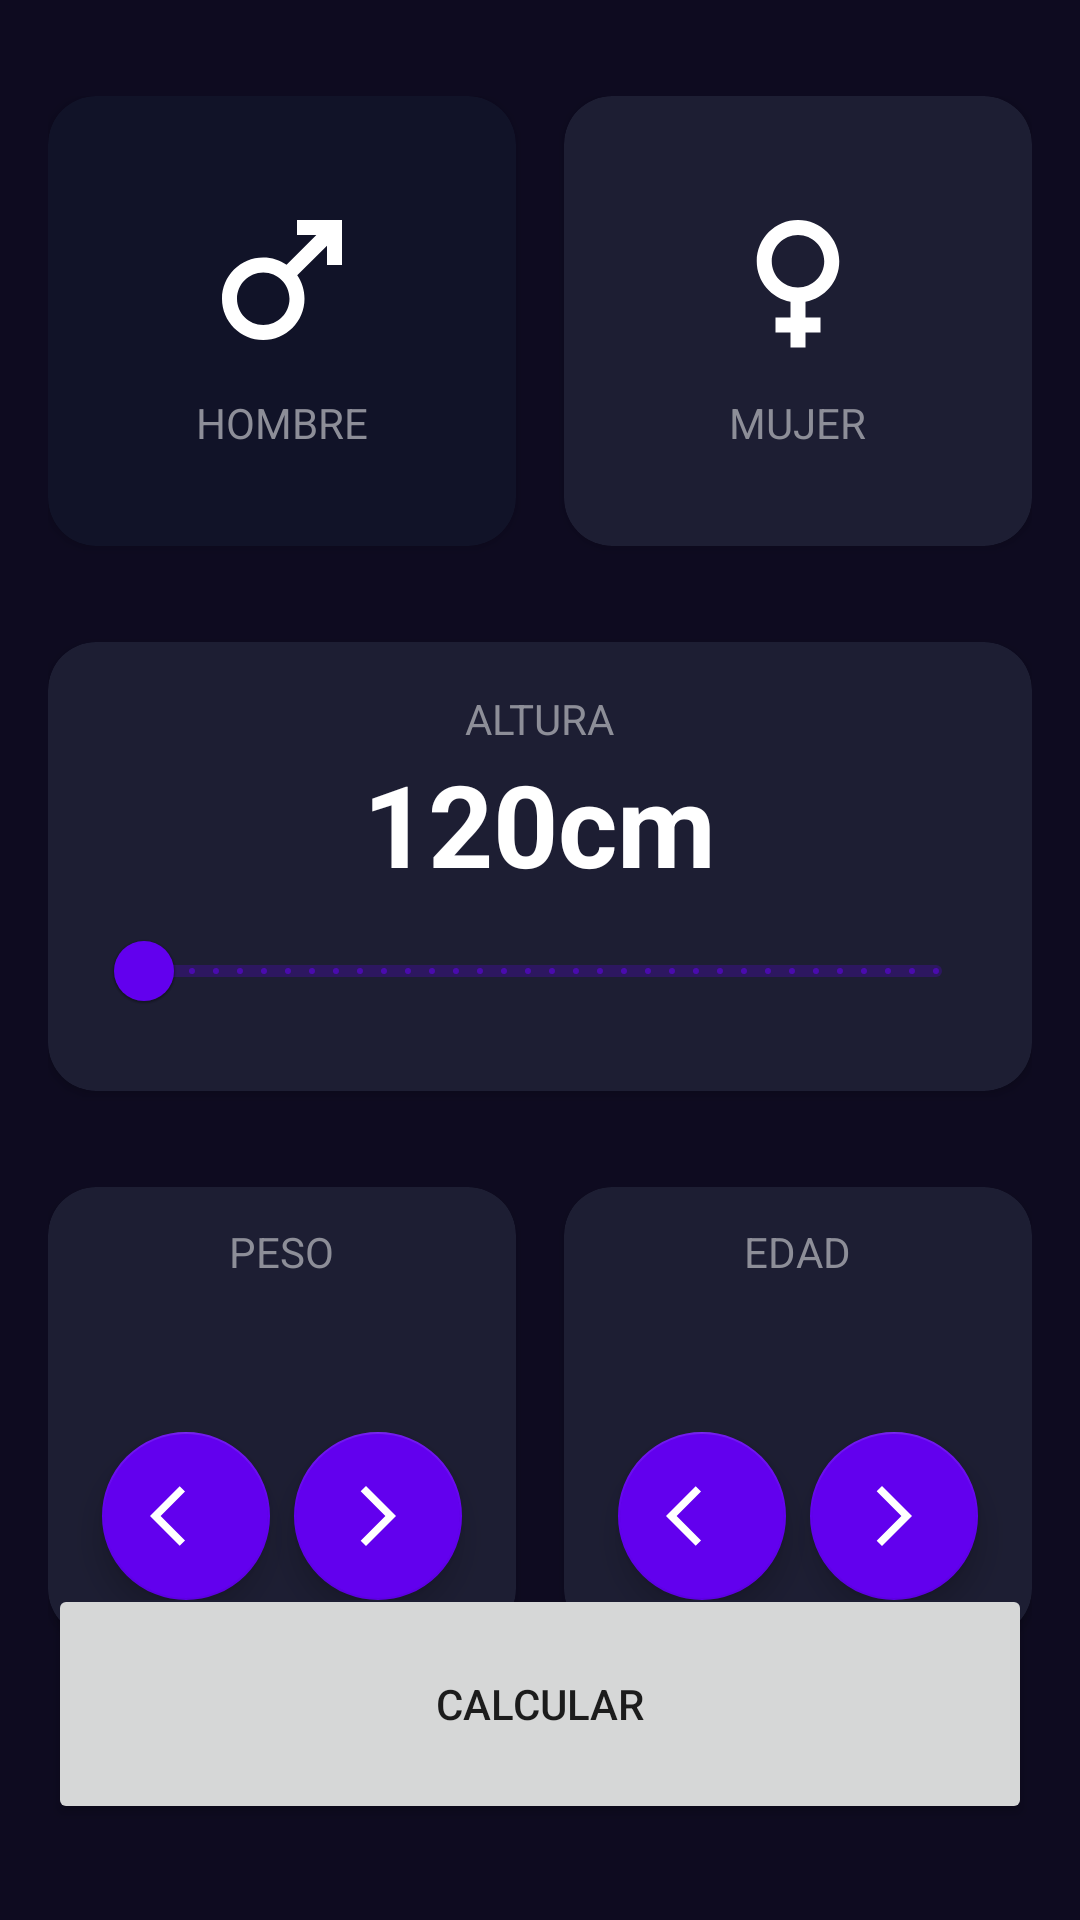

Screen size 1080px×1920px. Icon name, then its box in pixels as (x1, y1, x2, y2):
arrow back: (102, 1432, 270, 1600), (618, 1432, 786, 1600)
arrow forward: (294, 1432, 462, 1600), (810, 1432, 978, 1600)
female: (756, 220, 840, 348)
male: (222, 220, 342, 340)
